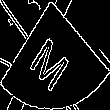M_NE: (31, 21, 79, 89)
